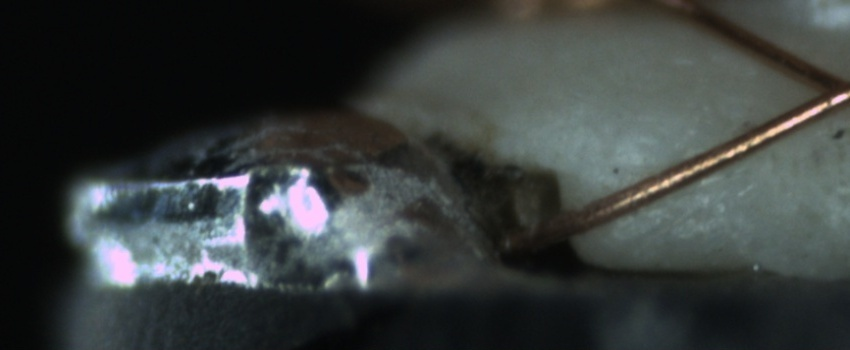CL: (794, 56, 850, 119)
